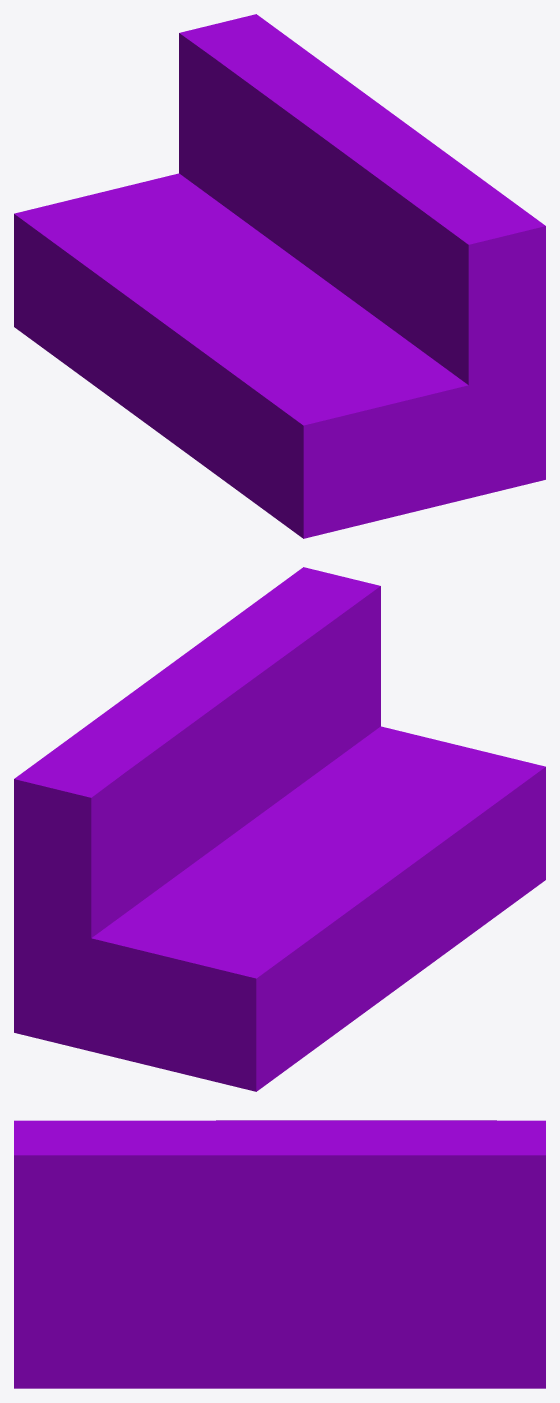
Rendered from sillonmorado3.fbx.
3 views of the same model, one above another, from view 1: azimuth 30°, elevation 25°; view 2: azimuth 150°, elevation 25°; view 3: azimuth 270°, elevation 25° (orthographic). The views are drawn at different scales.
Parts seen in each view (by area): view 1: Cube.002; view 2: Cube.002; view 3: Cube.002.
Boxes of the visible parts, x1,y1,x2,y2 form: Cube.002: (14, 14, 545, 538); Cube.002: (14, 567, 545, 1091); Cube.002: (14, 1120, 545, 1388).
Size of the model in its own units: 723 by 724 by 1495.
